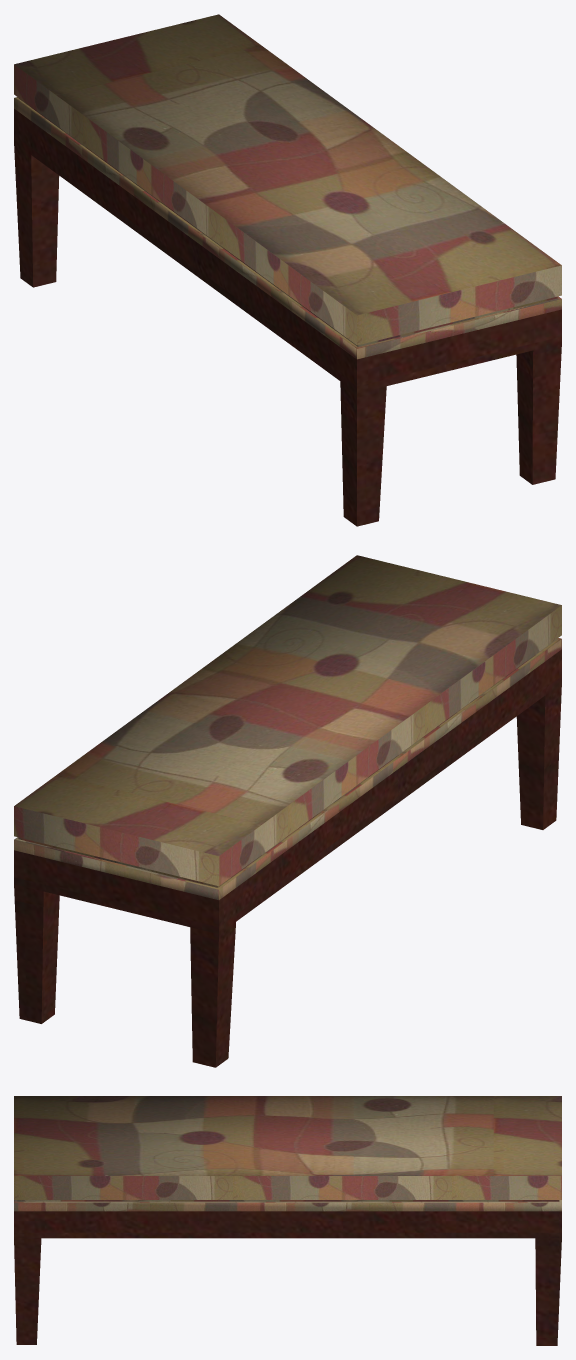
The picture shows the model from 3 angles, top to bottom: view 1: azimuth 30°, elevation 25°; view 2: azimuth 150°, elevation 25°; view 3: azimuth 270°, elevation 25°; orthographic projection. The views are drawn at different scales.
Parts seen in each view (by area): view 1: Mesh1_Better_Bench1_Model; view 2: Mesh1_Better_Bench1_Model; view 3: Mesh1_Better_Bench1_Model.
Boxes of the visible parts, x1=… form: Mesh1_Better_Bench1_Model: x1=14, y1=14, x2=561, y2=526; Mesh1_Better_Bench1_Model: x1=14, y1=555, x2=561, y2=1067; Mesh1_Better_Bench1_Model: x1=14, y1=1096, x2=561, y2=1345.
Bounding box in the file's own units: 0.3449 × 0.344 × 0.9994.
3 materials, 2 textured.
